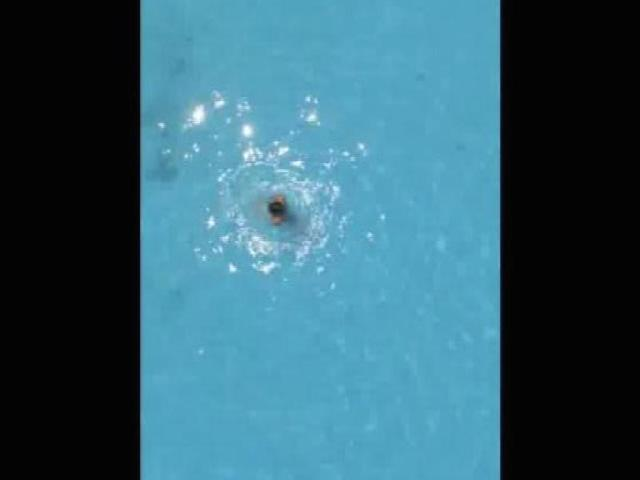swimming: (255, 188, 291, 235)
